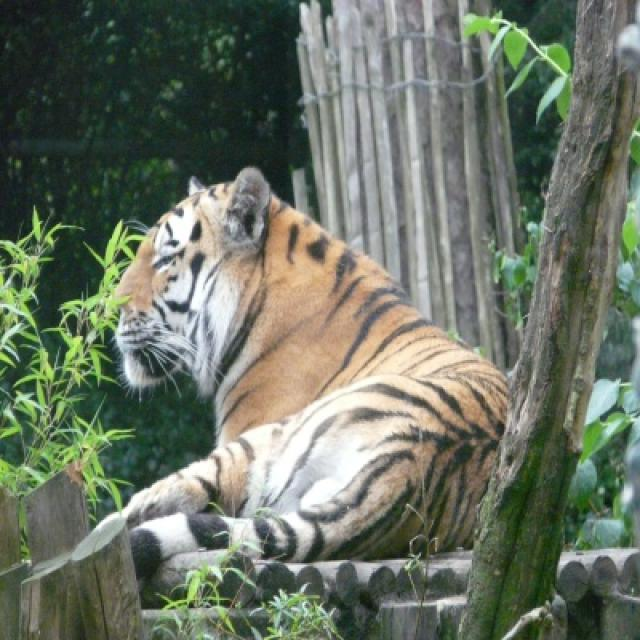Tiger: (98, 169, 510, 570)
